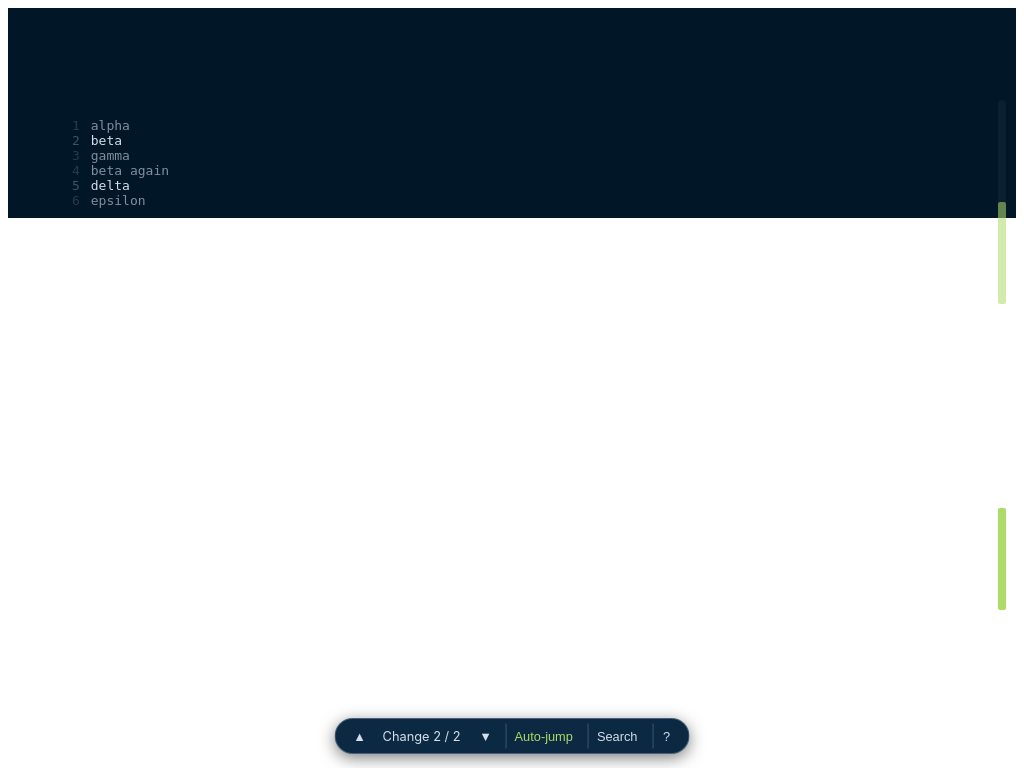
help and line numbers › ? shows the keyboard shortcuts and Esc hides them
Press ?
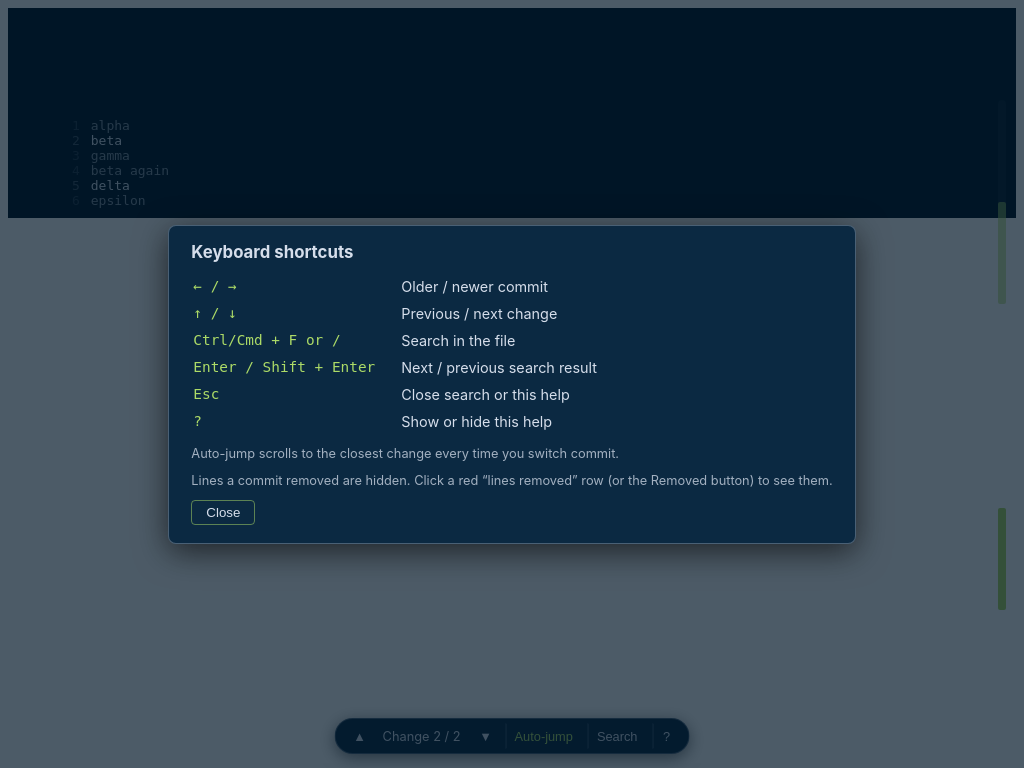
Check: the dialog with class "help-dialog" is shown, box 168,224 -> 856,544
Press Escape
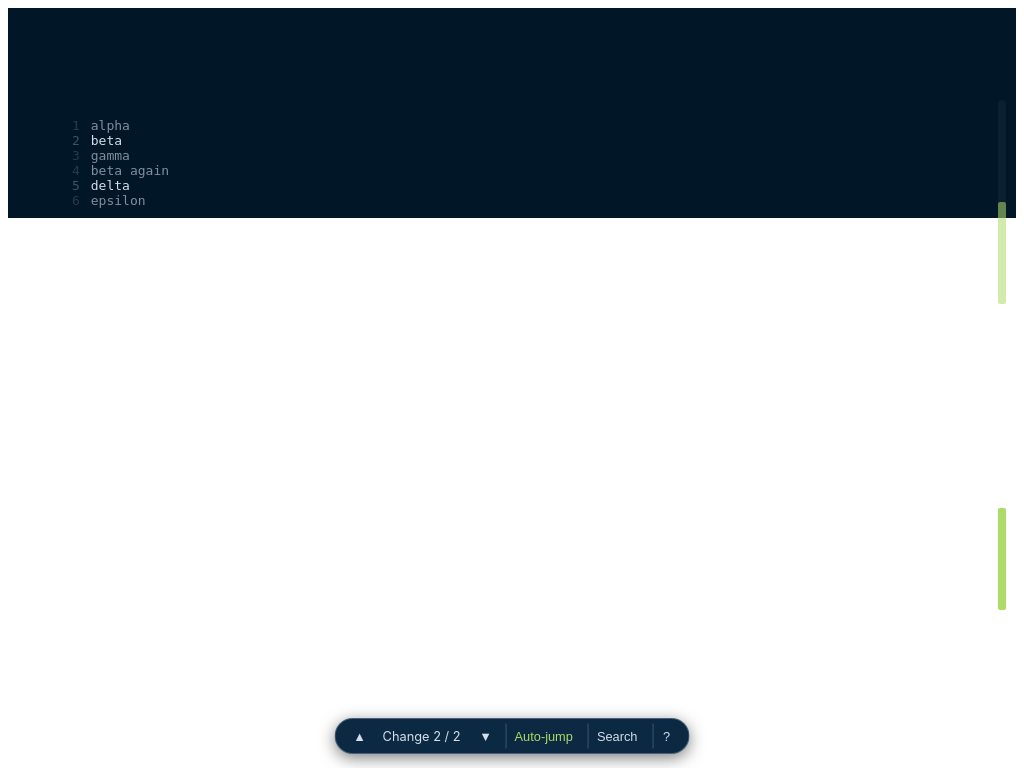
Check: the dialog with class "help-dialog" is gone
Click the button "?". click: {"x": 666, "y": 736}
box: 652,723 -> 680,749
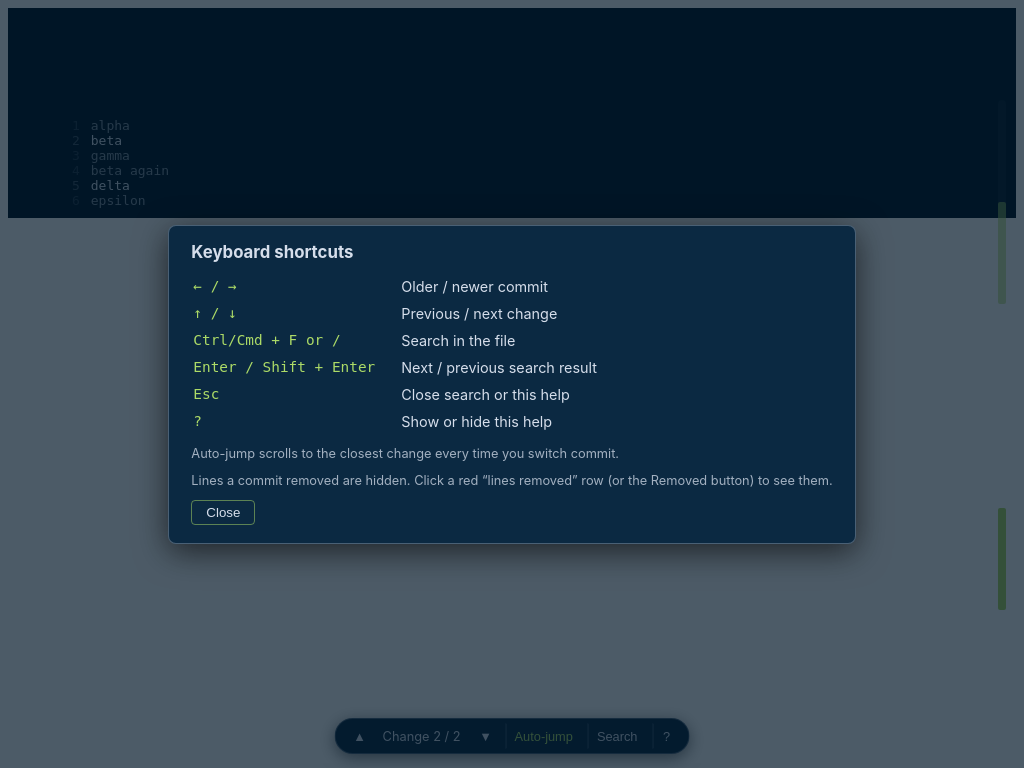
Check: the dialog with class "help-dialog" is shown, box 168,224 -> 856,544
